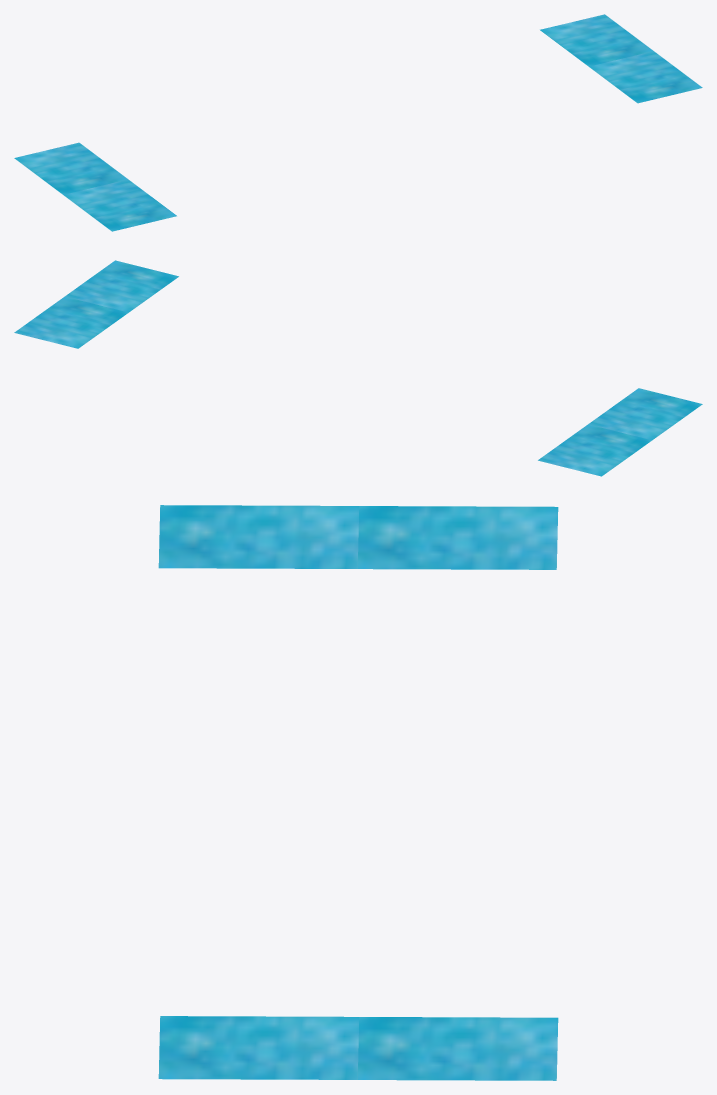
Rendered from stable_water.dae.
3 renders of one model, top to bottom at view 1: azimuth 30°, elevation 25°; view 2: azimuth 150°, elevation 25°; view 3: azimuth 270°, elevation 25°, orthographic. The views are drawn at different scales.
Parts seen in each view (by area): view 1: stable.001; view 2: stable.001; view 3: stable.001.
Boxes of the visible parts, x1,y1,x2,y2 form: stable.001: [14, 14, 702, 231]; stable.001: [14, 260, 702, 476]; stable.001: [158, 505, 558, 1080].
Size of the model in its own units: 12.31 by 3.61 by 0.
